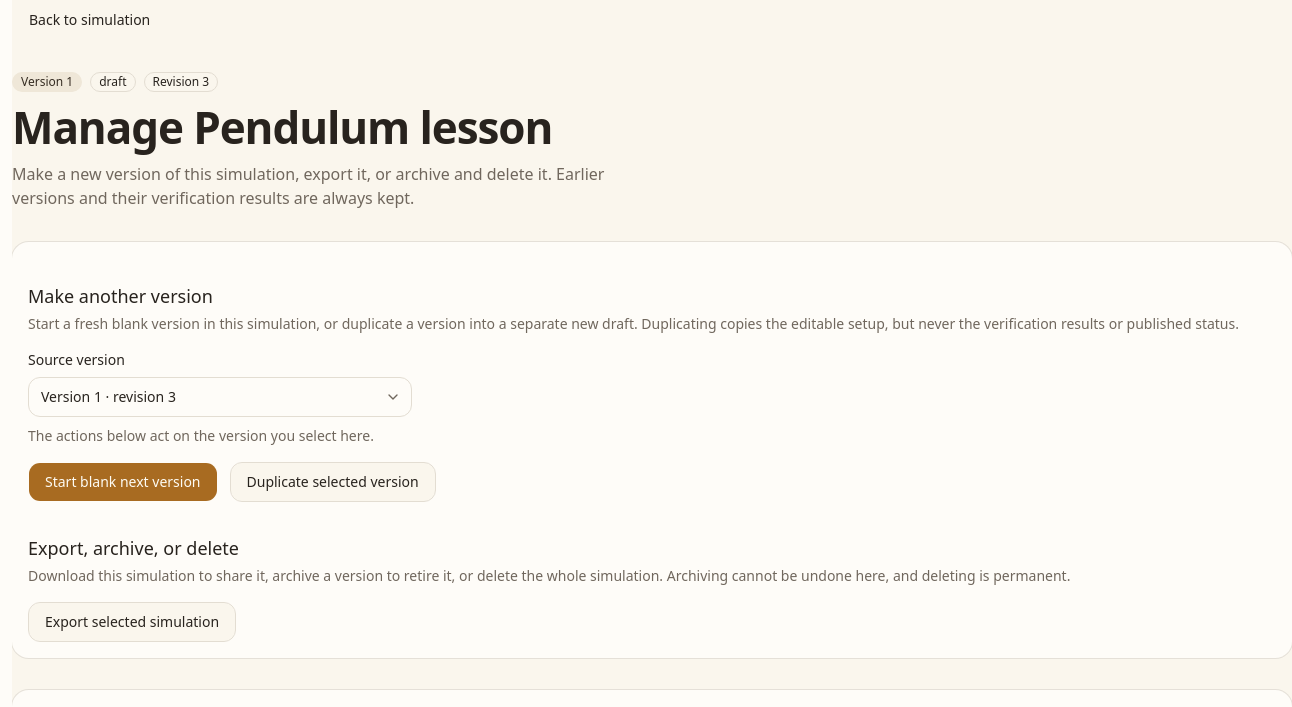
it: simulation management page › resets source and comparison defaults when authoritative history adds a version
Check: the heading "Manage Pendulum lesson" is shown, box 12,104 -> 607,150
What coordinates should you click on to do the following:
click the button "Start blank next version"
I would click on:
 (123, 482)
Its box is 28,462 -> 218,502.
(page scrolled)
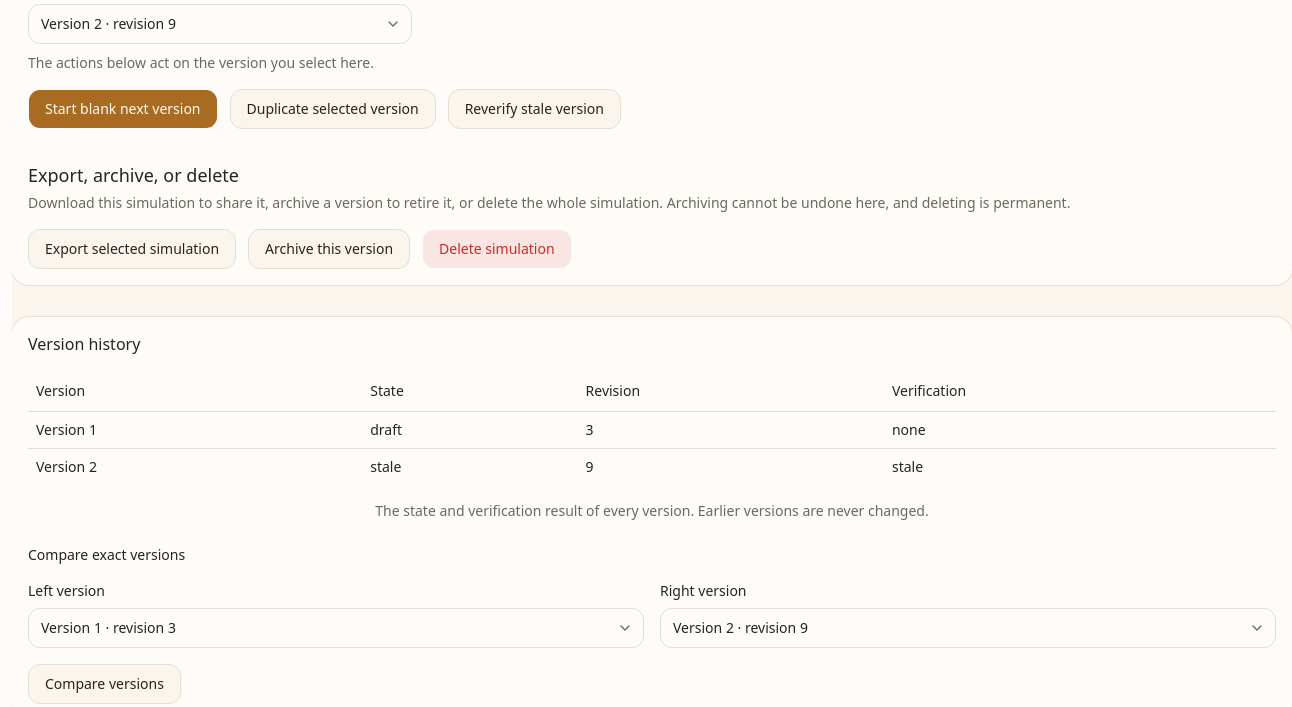
Check: the dropdown named "Source version" shows "Version 2", box 28,4 -> 412,44
Check: the button "Compare versions" is enabled, box 28,664 -> 181,704
